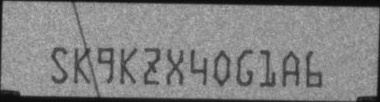1: (259, 49, 277, 88)
4: (190, 47, 207, 85)
6: (305, 51, 322, 88)
9: (97, 46, 114, 83)
A: (282, 49, 300, 86)
G: (237, 49, 255, 87)
K: (73, 46, 92, 84), (120, 46, 138, 85)
O: (213, 49, 231, 87)
S: (50, 45, 70, 83)
X: (166, 46, 184, 84)
Z: (142, 46, 159, 85)
